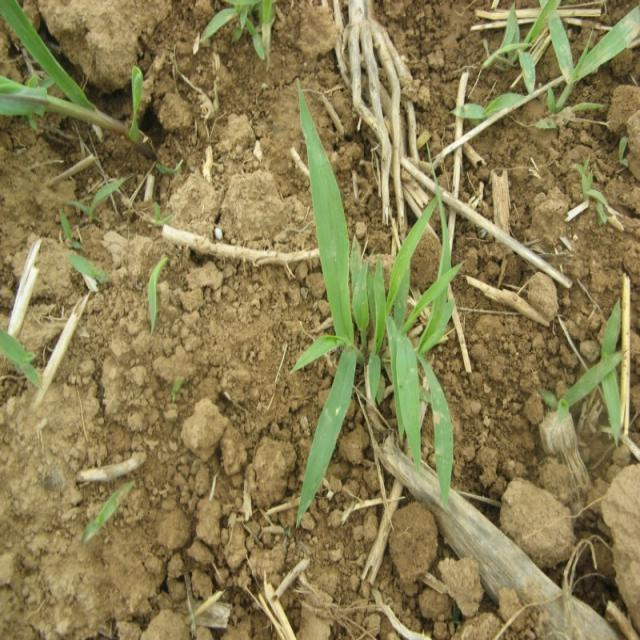bg: (295, 92, 455, 512)
